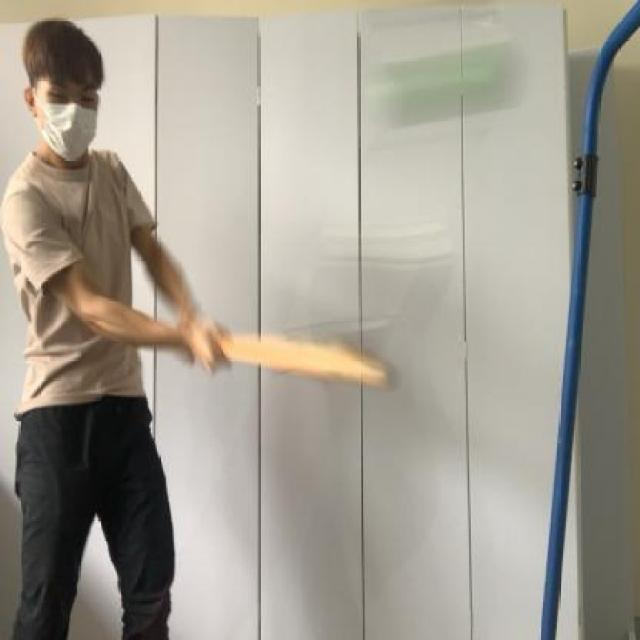baseball: (361, 35, 519, 131)
